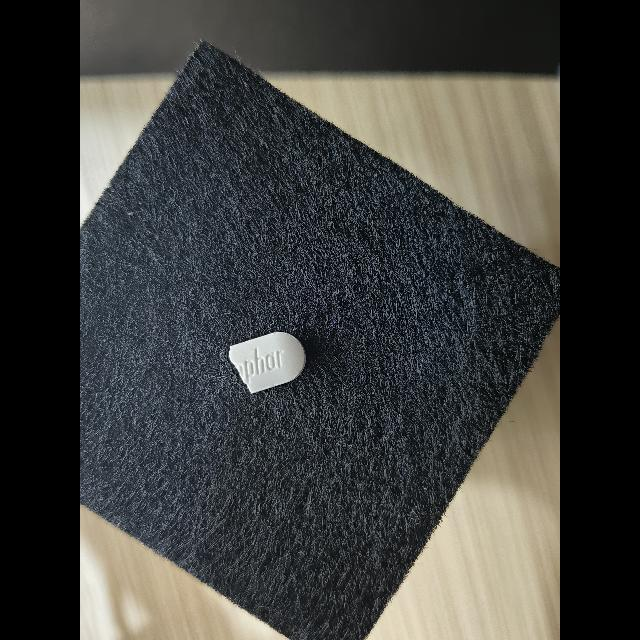Chipped Pill: (229, 332, 306, 394)
